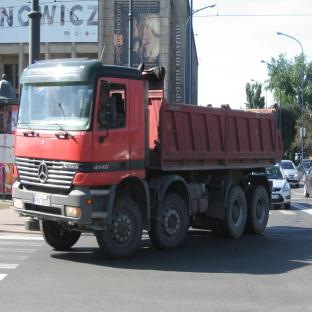Vehicle: (12, 55, 290, 240)
